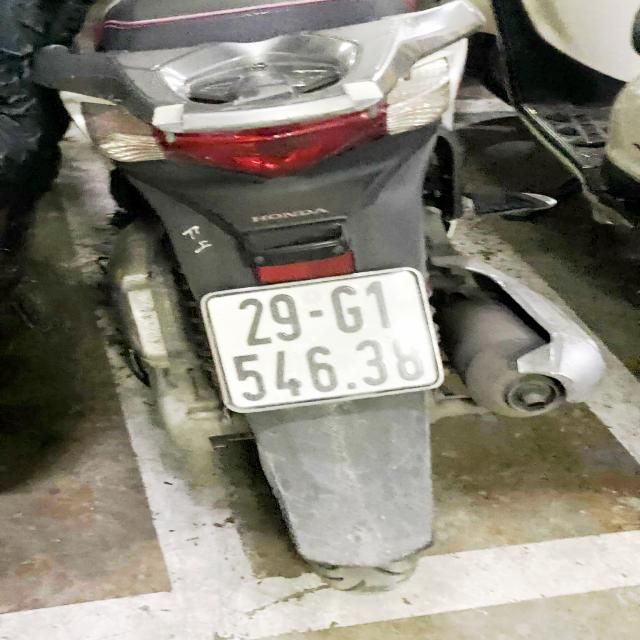license_plate: (191, 261, 457, 423)
